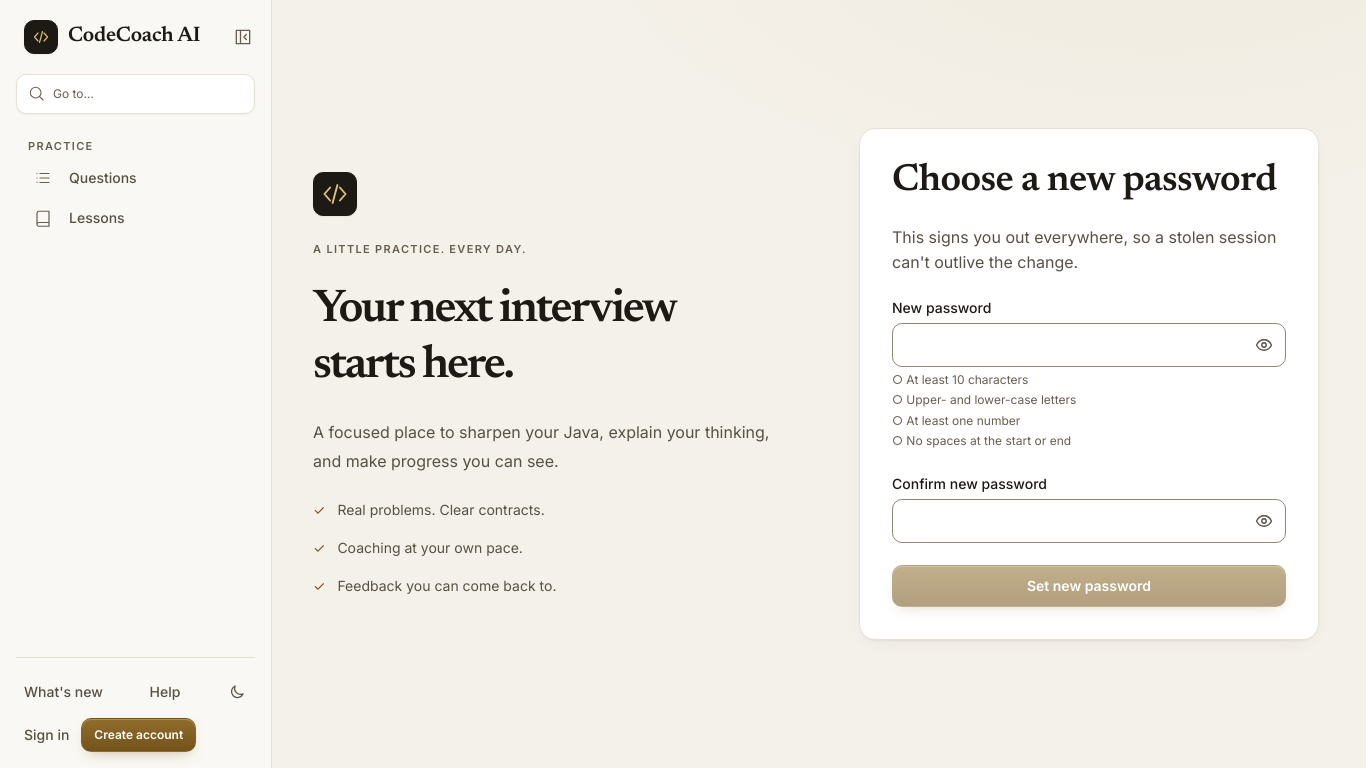
Scenario: Password reset › shows the password rules from the server next to the field
The image size is (1366, 768).
Type "alllowercase1" into the password field labelled "New password".
click(1089, 344); type("alllowercase1")  # box [892, 322, 1286, 366]
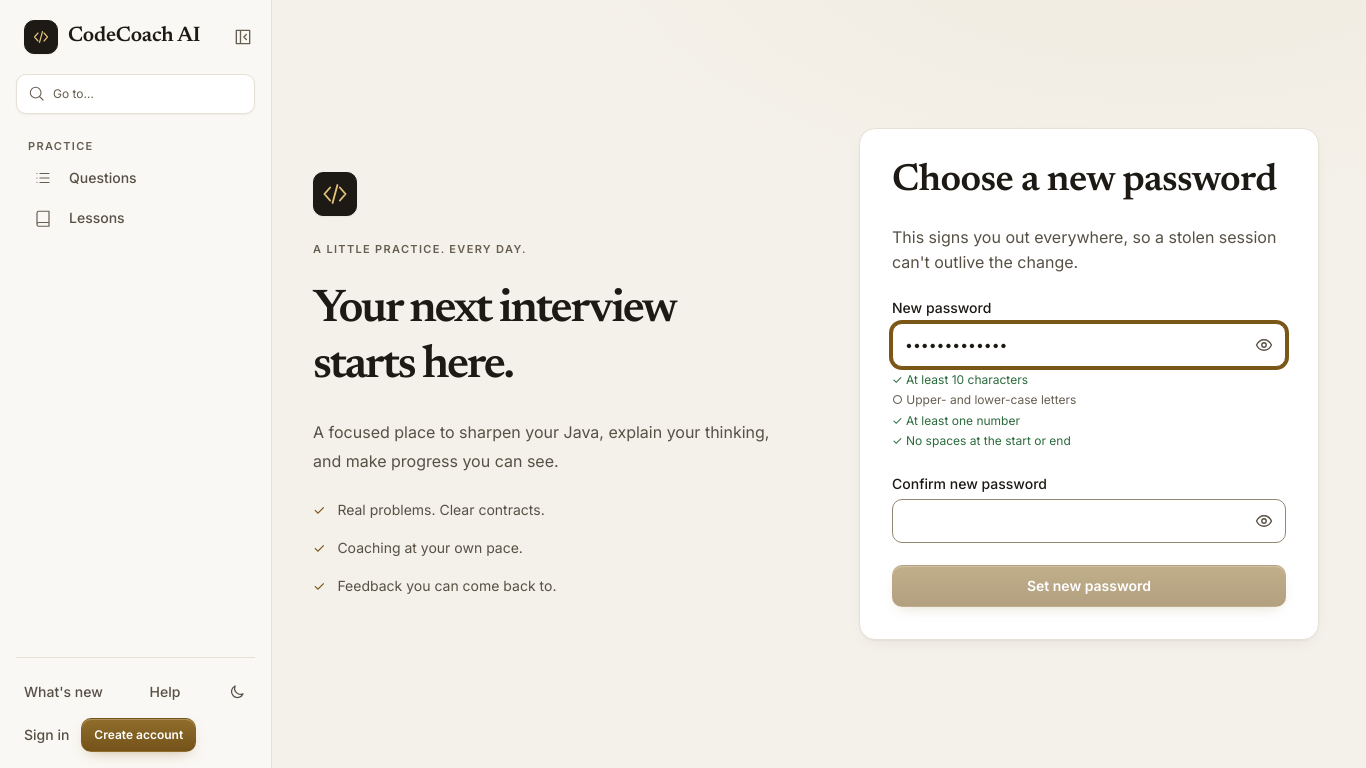
Type "alllowercase1" into the password field labelled "Confirm new password".
click(1089, 521); type("alllowercase1")  # box [892, 499, 1286, 543]
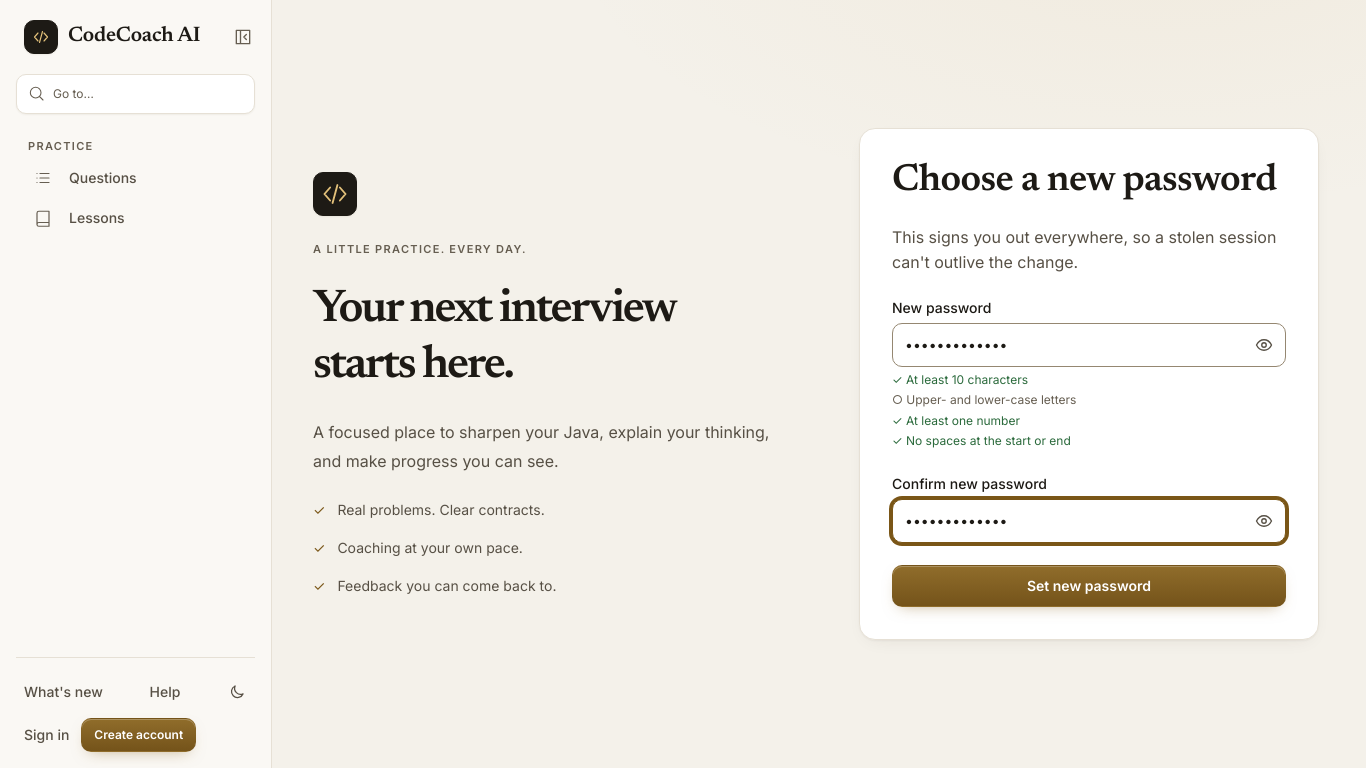
Click the button "Set new password".
click(1089, 586)  # box [892, 565, 1286, 607]
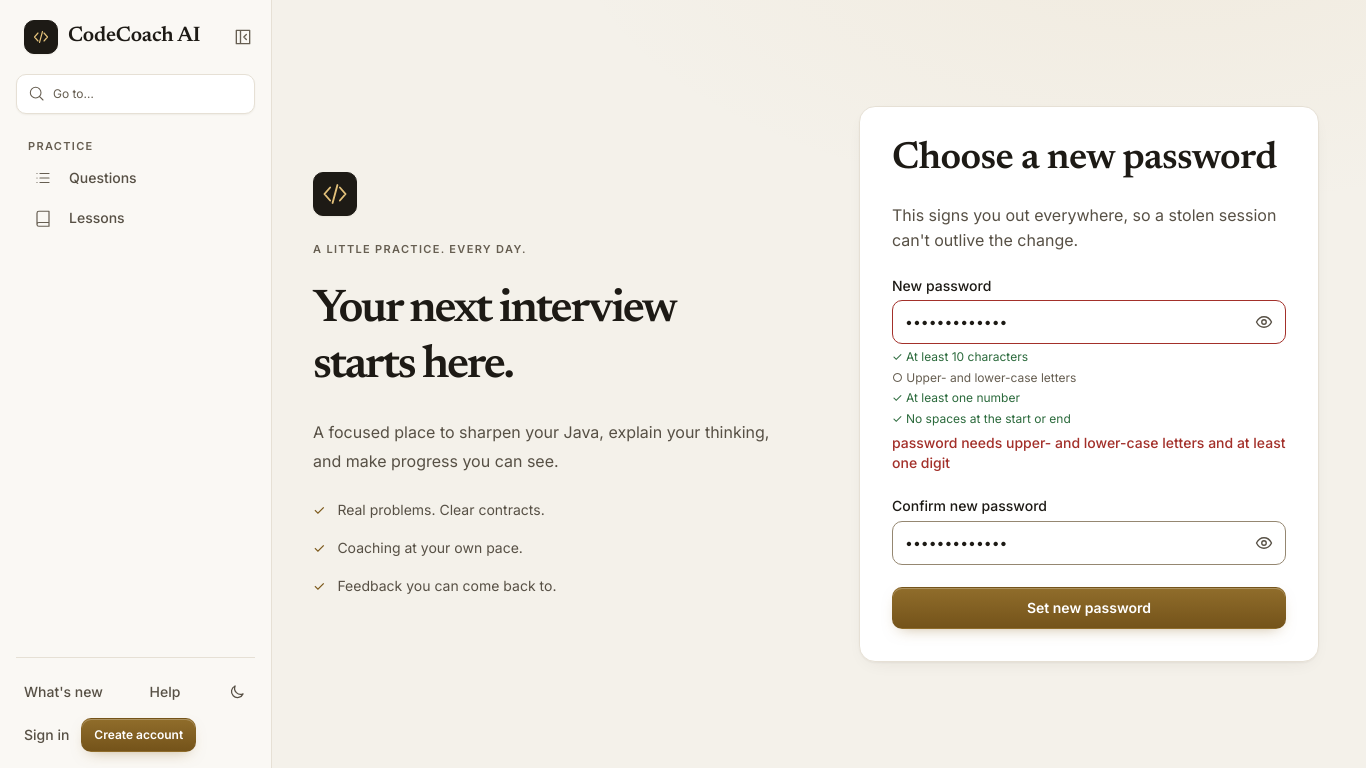
Check: the text "password needs upper- and lower-case letters and at least one digit" is shown, box [892, 433, 1286, 473]
